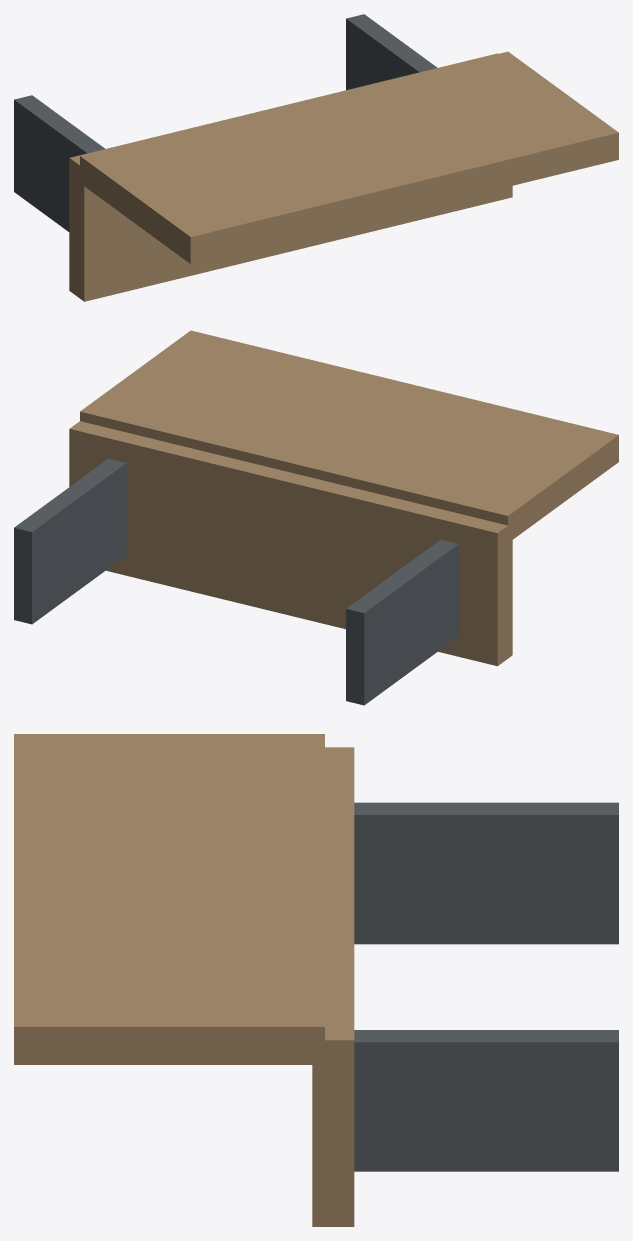
Rendered from roadside_bench.glb.
The picture shows the model from 3 angles, top to bottom: view 1: azimuth 30°, elevation 25°; view 2: azimuth 150°, elevation 25°; view 3: azimuth 270°, elevation 25°; orthographic projection. The views are drawn at different scales.
Visible parts, largest first — view 1: 0001_Bench_back, 0000_Bench_seat, 0002_Bench_leg, 0003_Bench_leg; view 2: 0001_Bench_back, 0000_Bench_seat, 0002_Bench_leg, 0003_Bench_leg; view 3: 0001_Bench_back, 0002_Bench_leg, 0003_Bench_leg, 0000_Bench_seat.
Boxes of the visible parts, x1=… form: 0001_Bench_back: x1=80, y1=51, x2=618, y2=263; 0000_Bench_seat: x1=69, y1=53, x2=512, y2=301; 0002_Bench_leg: x1=14, y1=95, x2=104, y2=231; 0003_Bench_leg: x1=346, y1=14, x2=437, y2=90; 0001_Bench_back: x1=80, y1=330, x2=618, y2=542; 0000_Bench_seat: x1=69, y1=421, x2=512, y2=666; 0002_Bench_leg: x1=346, y1=539, x2=458, y2=705; 0003_Bench_leg: x1=14, y1=458, x2=126, y2=624; 0001_Bench_back: x1=14, y1=734, x2=324, y2=1064; 0002_Bench_leg: x1=354, y1=802, x2=618, y2=944; 0003_Bench_leg: x1=354, y1=1030, x2=618, y2=1171; 0000_Bench_seat: x1=312, y1=747, x2=354, y2=1226.
Bounding box in the file's own units: 1.65 × 0.525 × 1.44.
